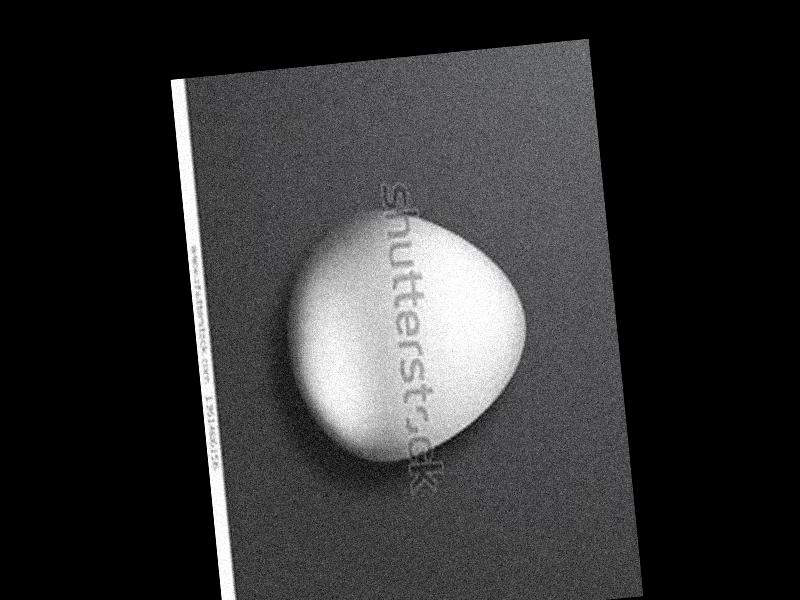Eggs: (278, 196, 539, 469)
